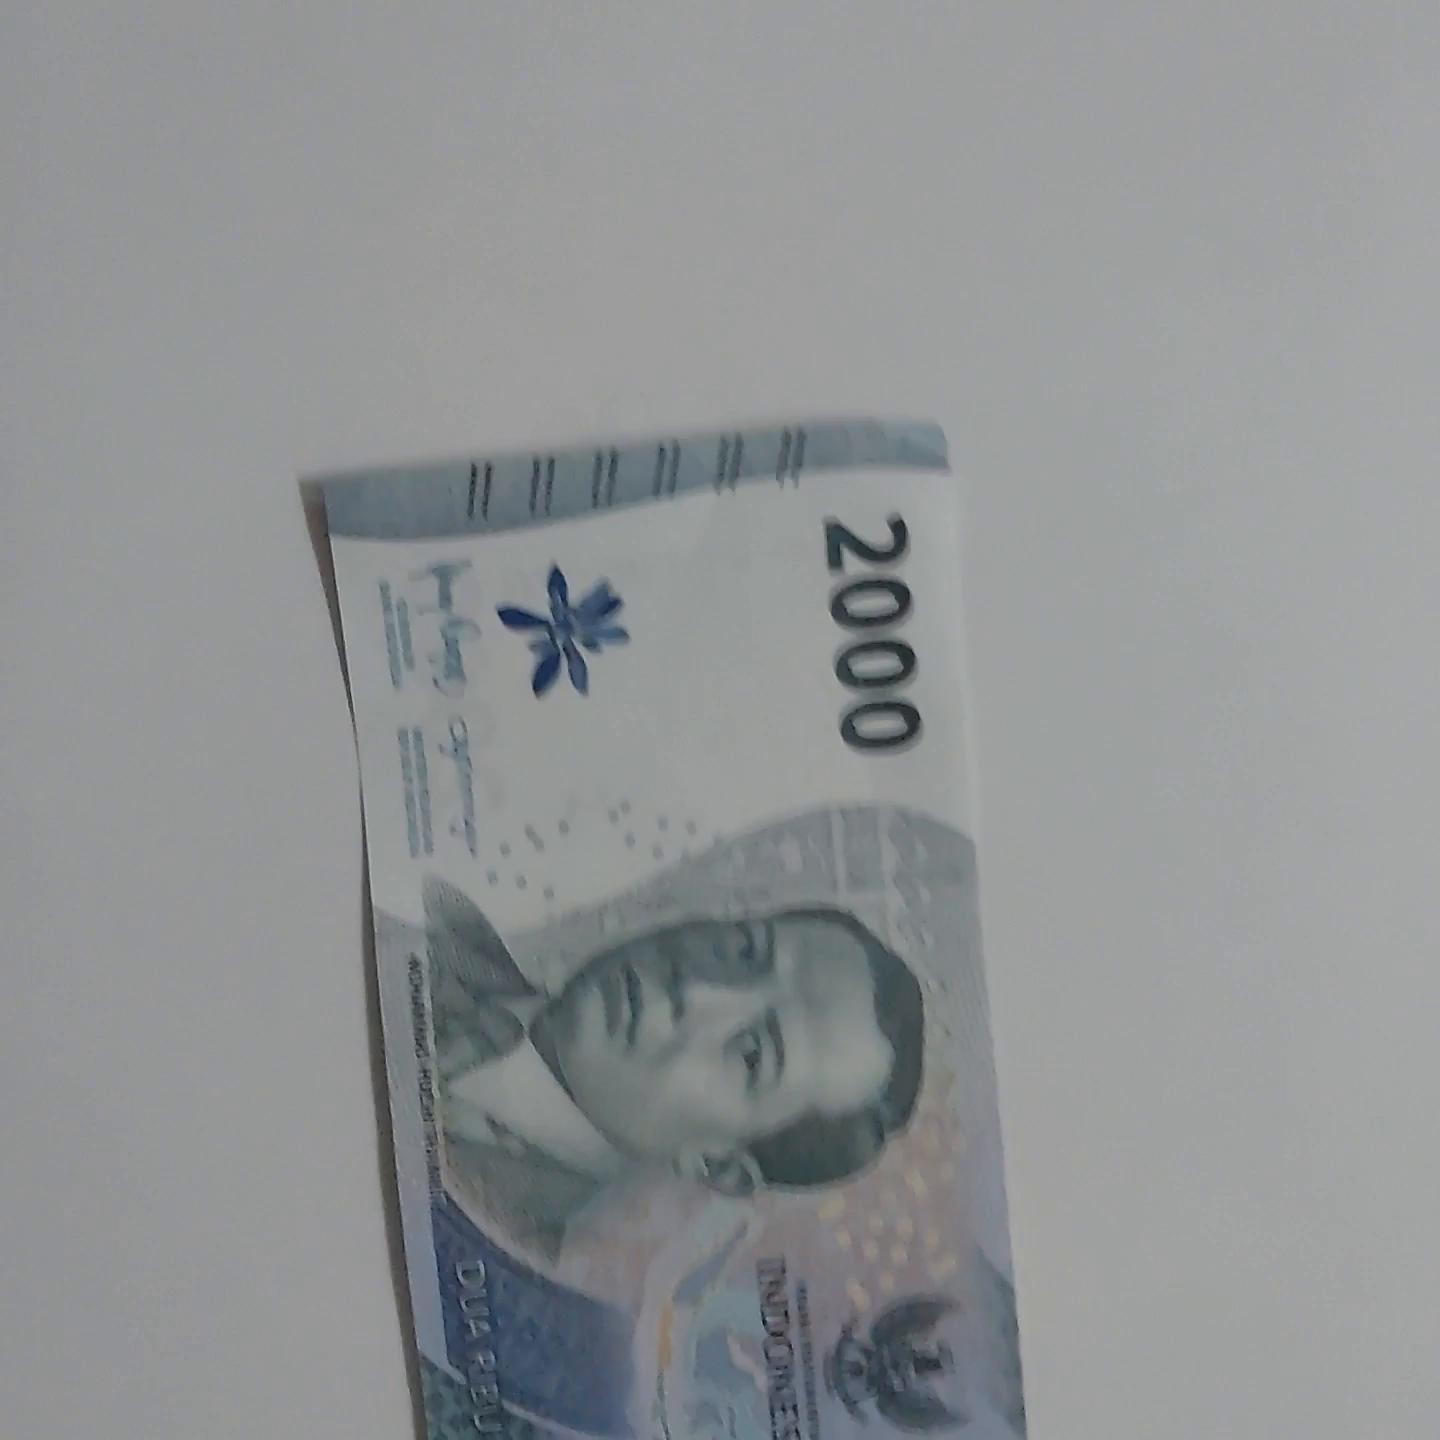2k: (305, 458, 1033, 1440)
